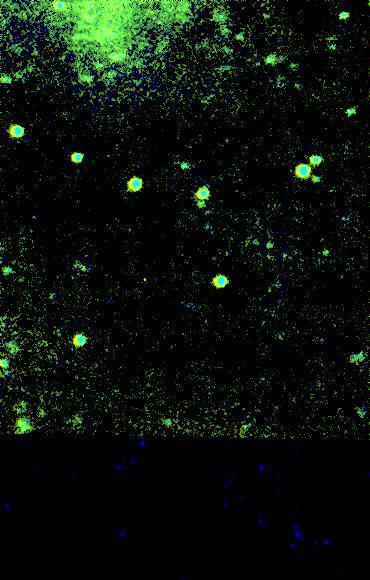star: (4, 407, 34, 437)
